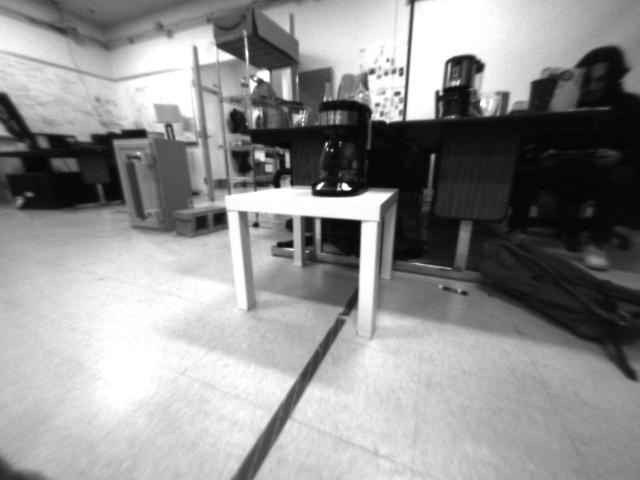coffee_pot: (306, 100, 371, 195)
